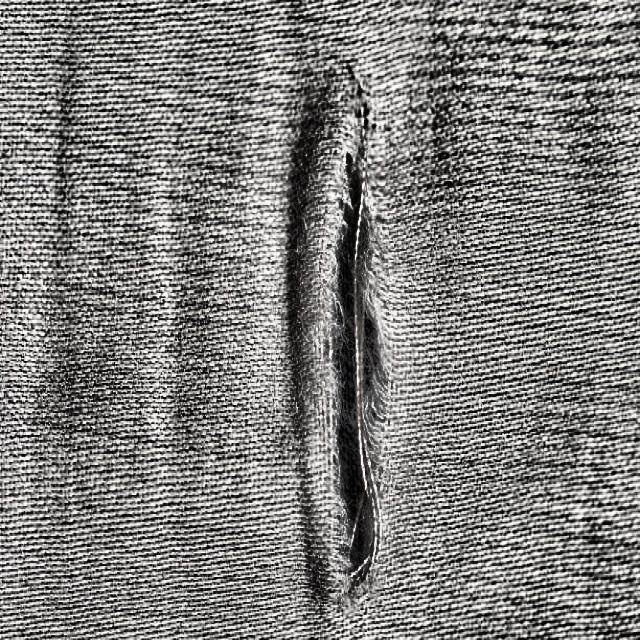Hole: (319, 126, 407, 612)
